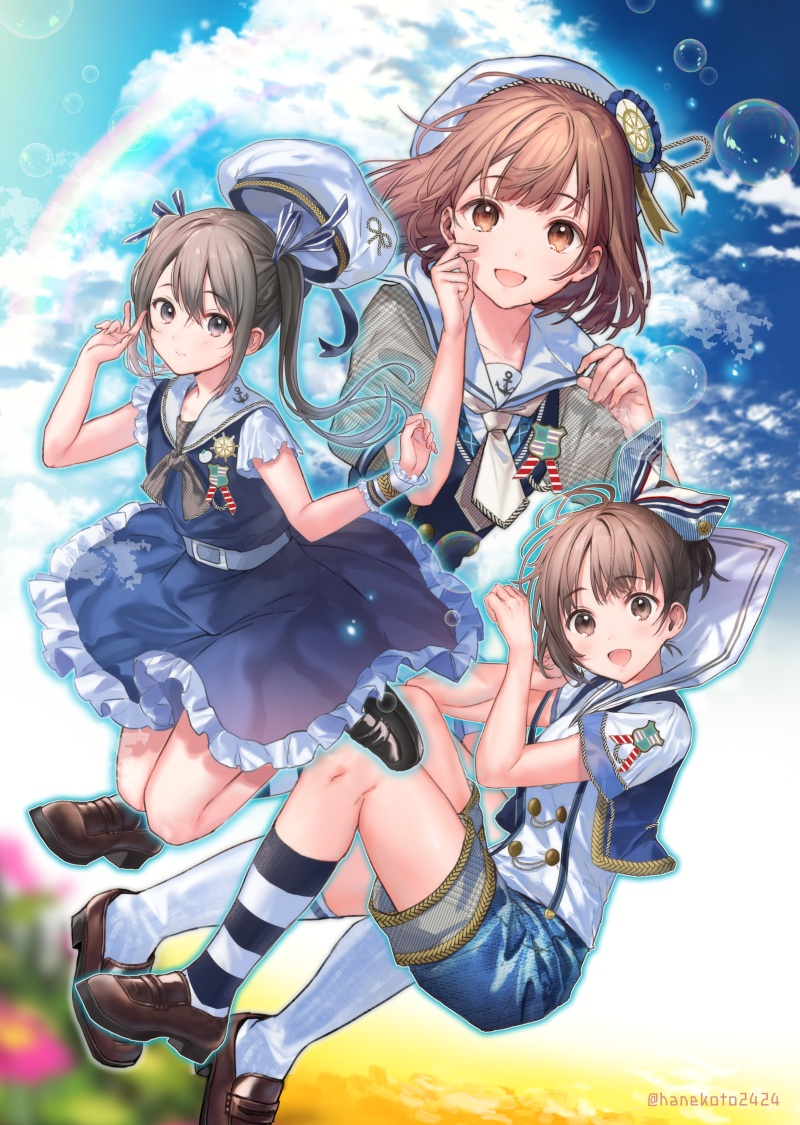纸片人正脸: (413, 65, 652, 326), (525, 498, 704, 686), (121, 203, 284, 387)
